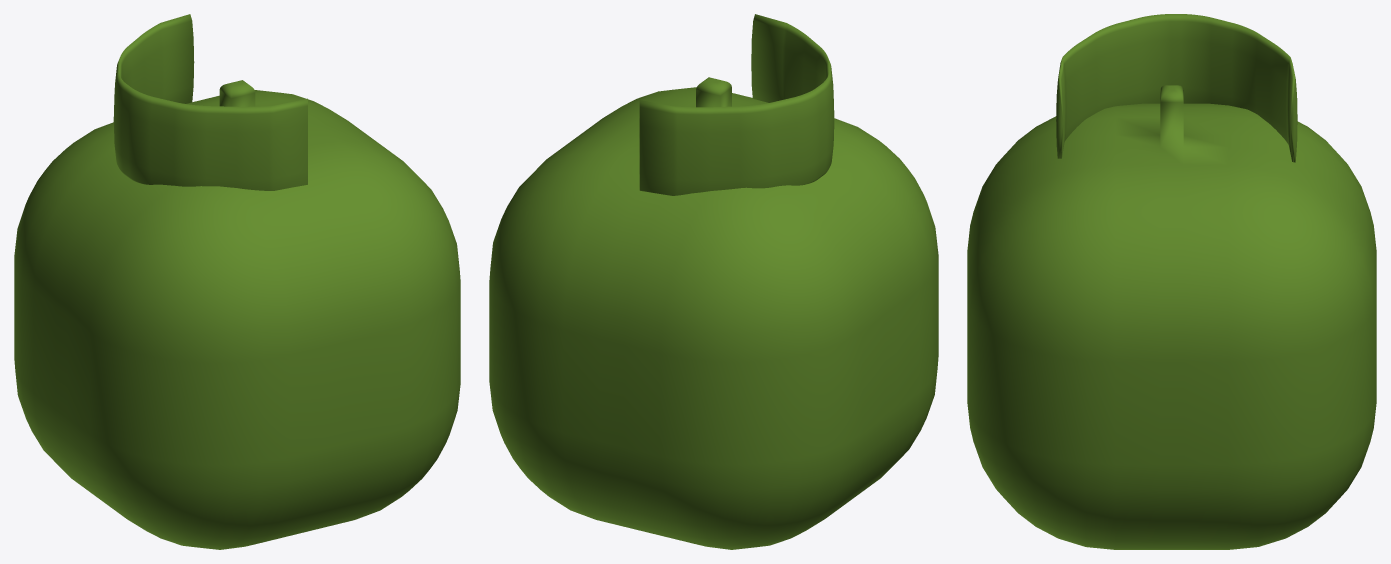
The model's file is LPG.fbx.
3 views of the same model, side by side, from view 1: azimuth 30°, elevation 25°; view 2: azimuth 150°, elevation 25°; view 3: azimuth 270°, elevation 25° (orthographic).
Parts seen in each view (by area): view 1: LPG; view 2: LPG; view 3: LPG.
Boxes of the visible parts, x1,y1,x2,y2 form: LPG: (14, 14, 460, 549); LPG: (489, 14, 938, 549); LPG: (967, 14, 1376, 549).
Size of the model in its own units: 98.35 by 118 by 98.35.
